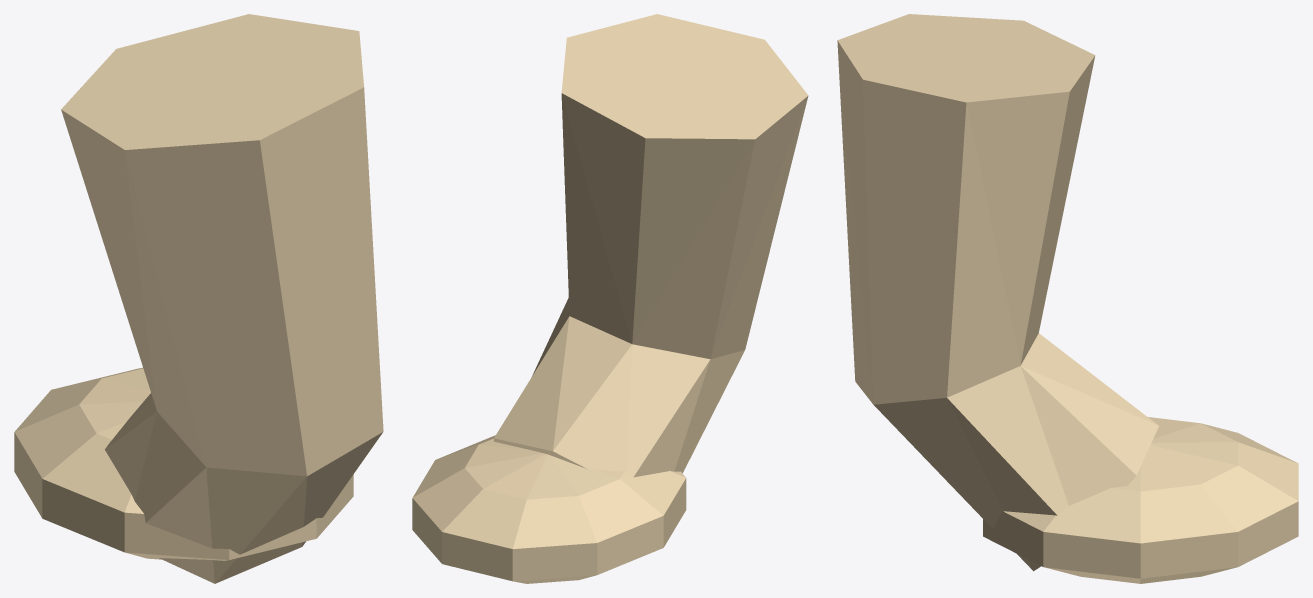
File: gorehulk_f_leg_1.obj
3 renders of one model, left to right at view 1: azimuth 30°, elevation 25°; view 2: azimuth 150°, elevation 25°; view 3: azimuth 270°, elevation 25°, orthographic. The views are drawn at different scales.
Parts seen in each view (by area): view 1: gorehulk_f_leg_1; view 2: gorehulk_f_leg_1; view 3: gorehulk_f_leg_1.
Part boxes in pixels (x1,y1,x2,y2): gorehulk_f_leg_1: (14,14,383,583); gorehulk_f_leg_1: (412,14,808,583); gorehulk_f_leg_1: (837,14,1298,583).
Size of the model in its own units: 0.3497 by 0.5576 by 0.4759.
